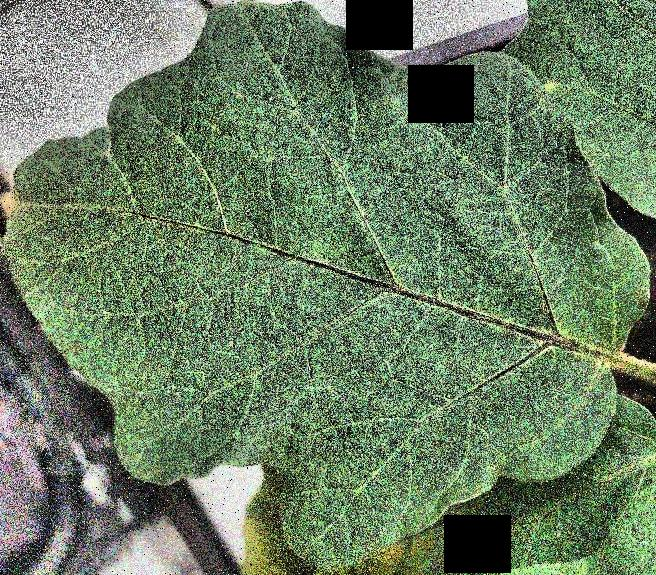HEALTHY: (1, 0, 656, 575)
